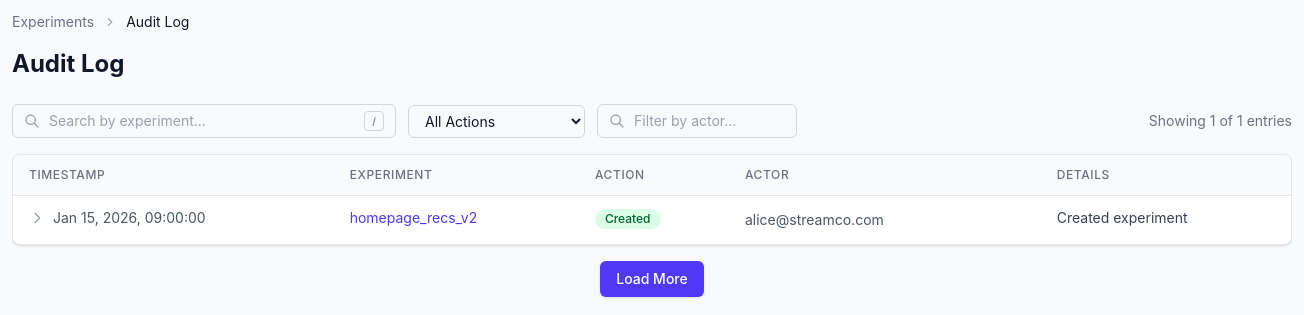
Test: Audit Log Page › pagination loads more entries
Check: the text "Created experiment" is shown, box [1057,209,1188,226]
Click the button with test id "load-more-button" at (652, 279), box [600,261,704,297]
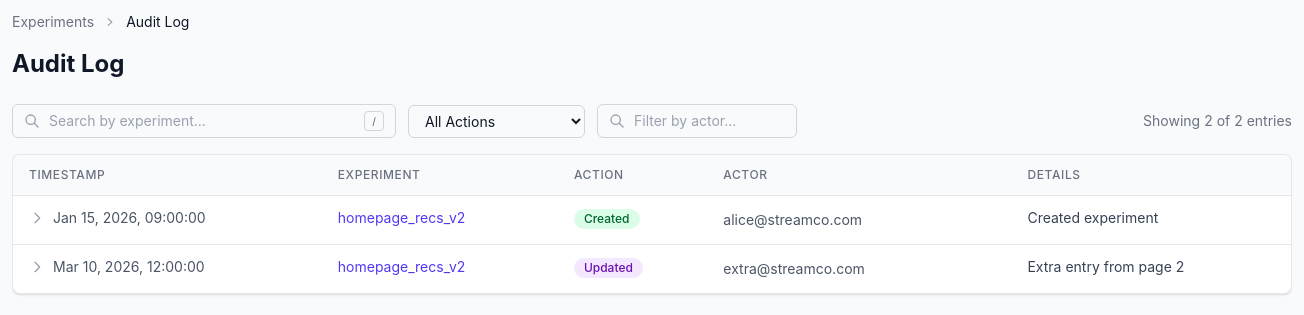
Check: the text "Extra entry from page 2" is shown, box [1027,258,1184,275]
Check: the button with test id "load-more-button" is gone
